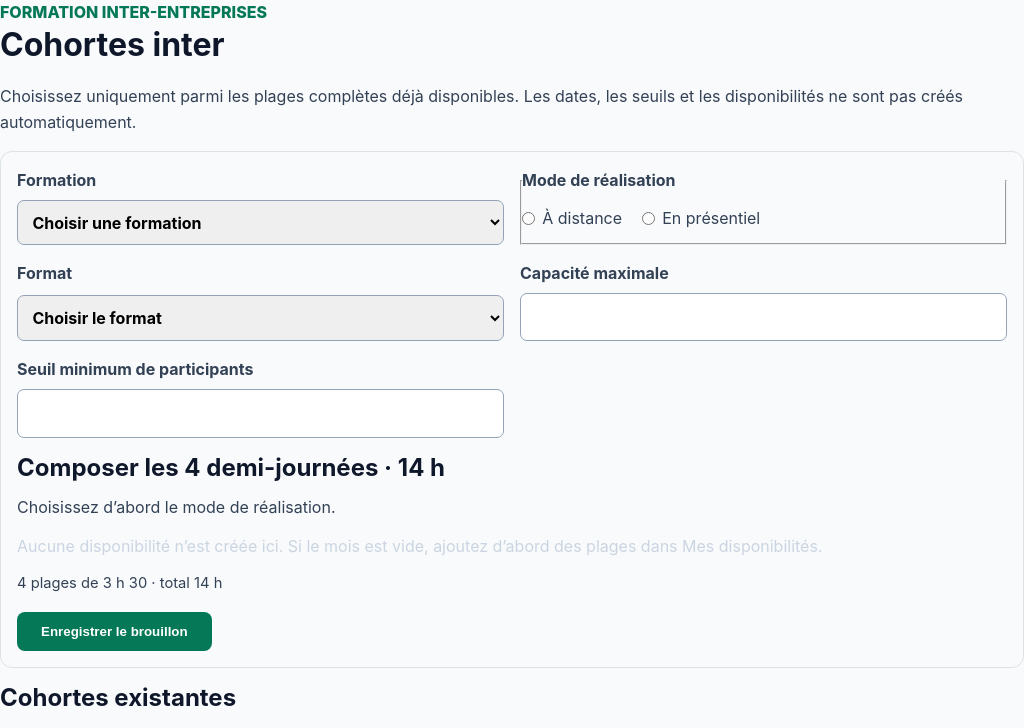
Test: refuse un seuil créativité hors bornes ou non entier (2.5)
Select "Créativité" in the dropdown labelled "Formation": (260, 223) [17,200,504,245]
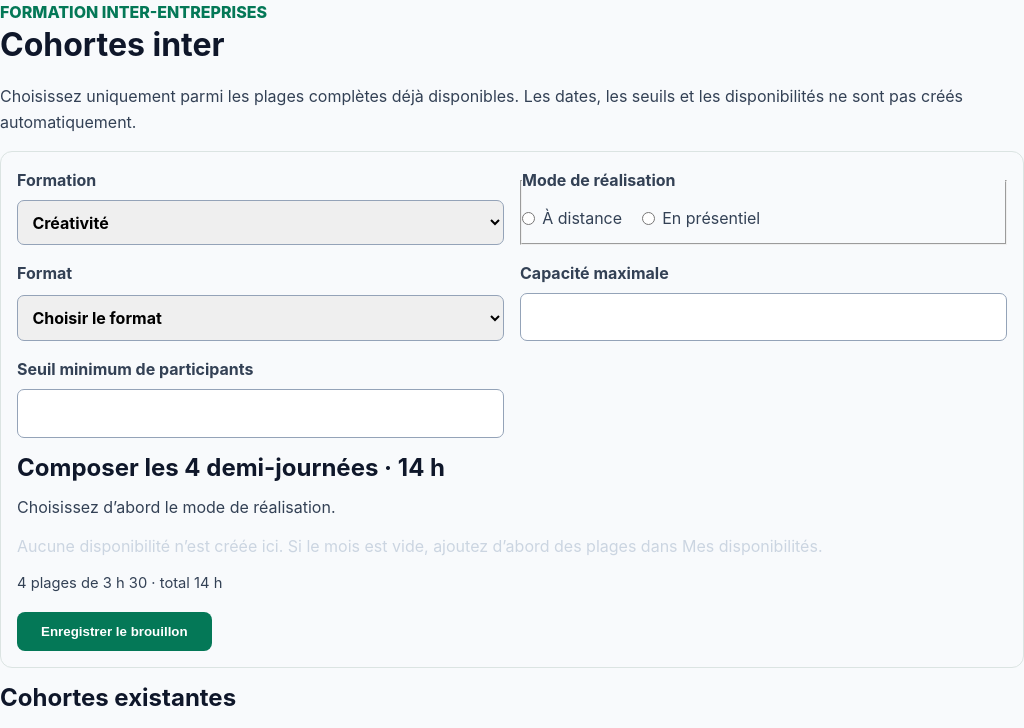
Click the radio button labelled "À distance": (528, 218) [522,212,535,225]
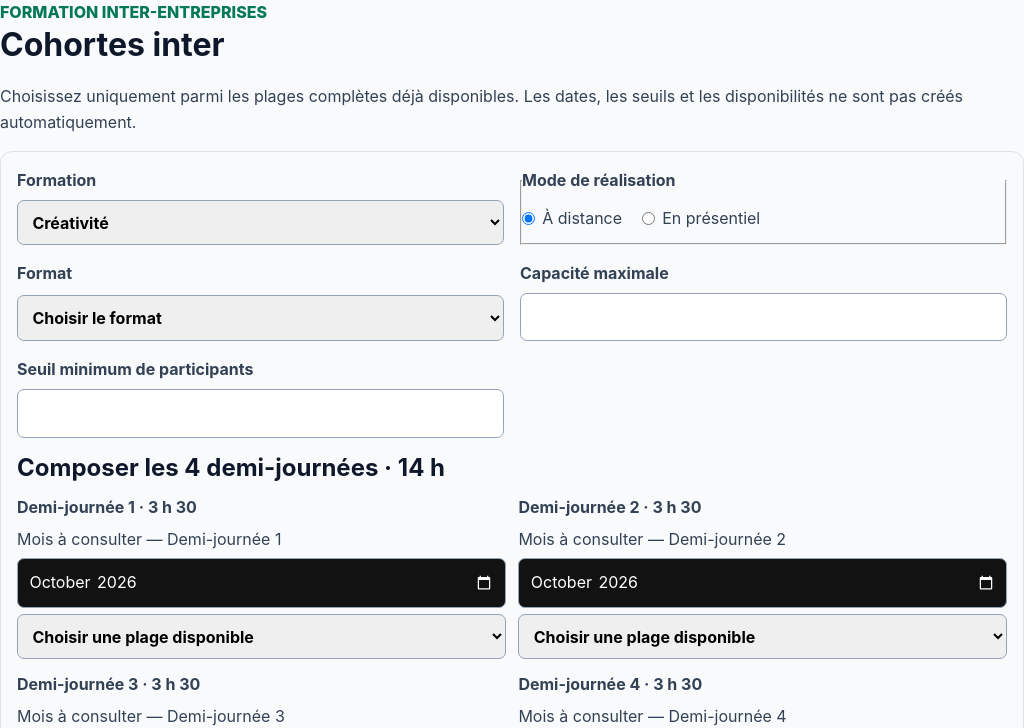
In the number field labelled "Seuil minimum de participants": (260, 414) [17,389,504,438], type "2.5"
(page scrolled)
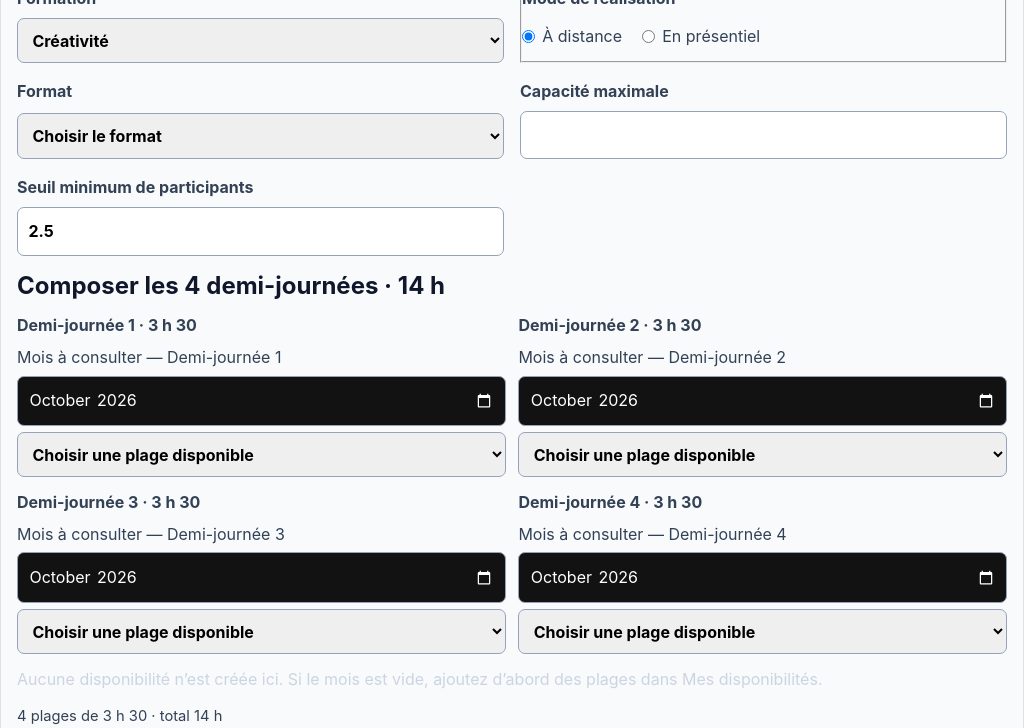
Submit the form named "Enregistrer le brouillon"
(page scrolled)
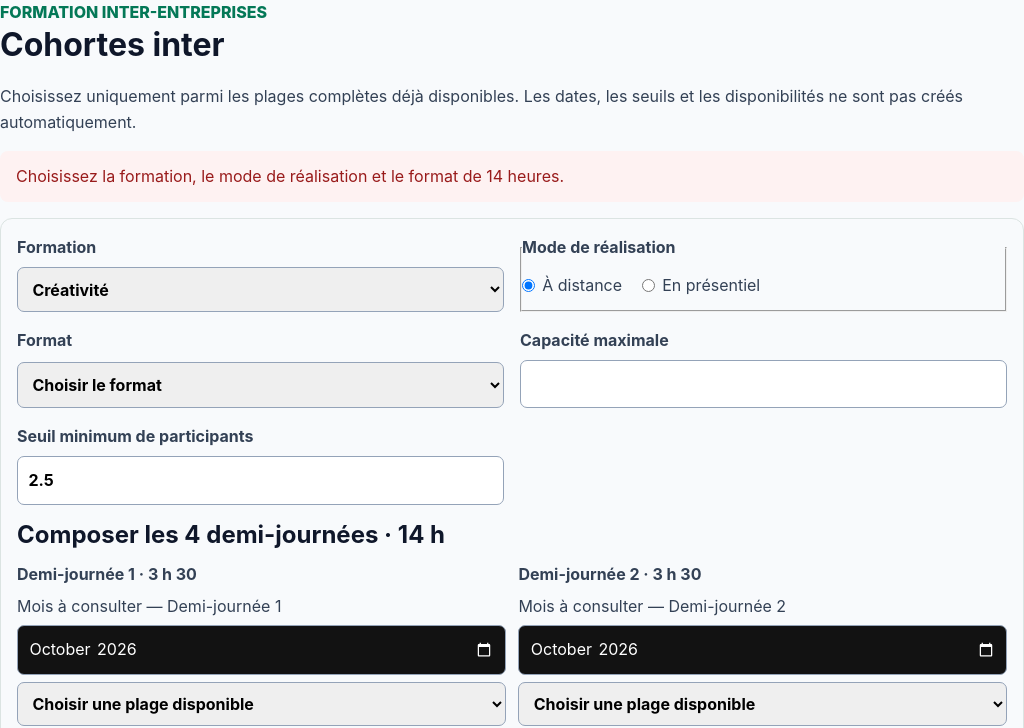
Expected: the message "Choisissez la formation, le mode de réalisation et le format de 14 heures." is shown, [0,151,1023,202]
